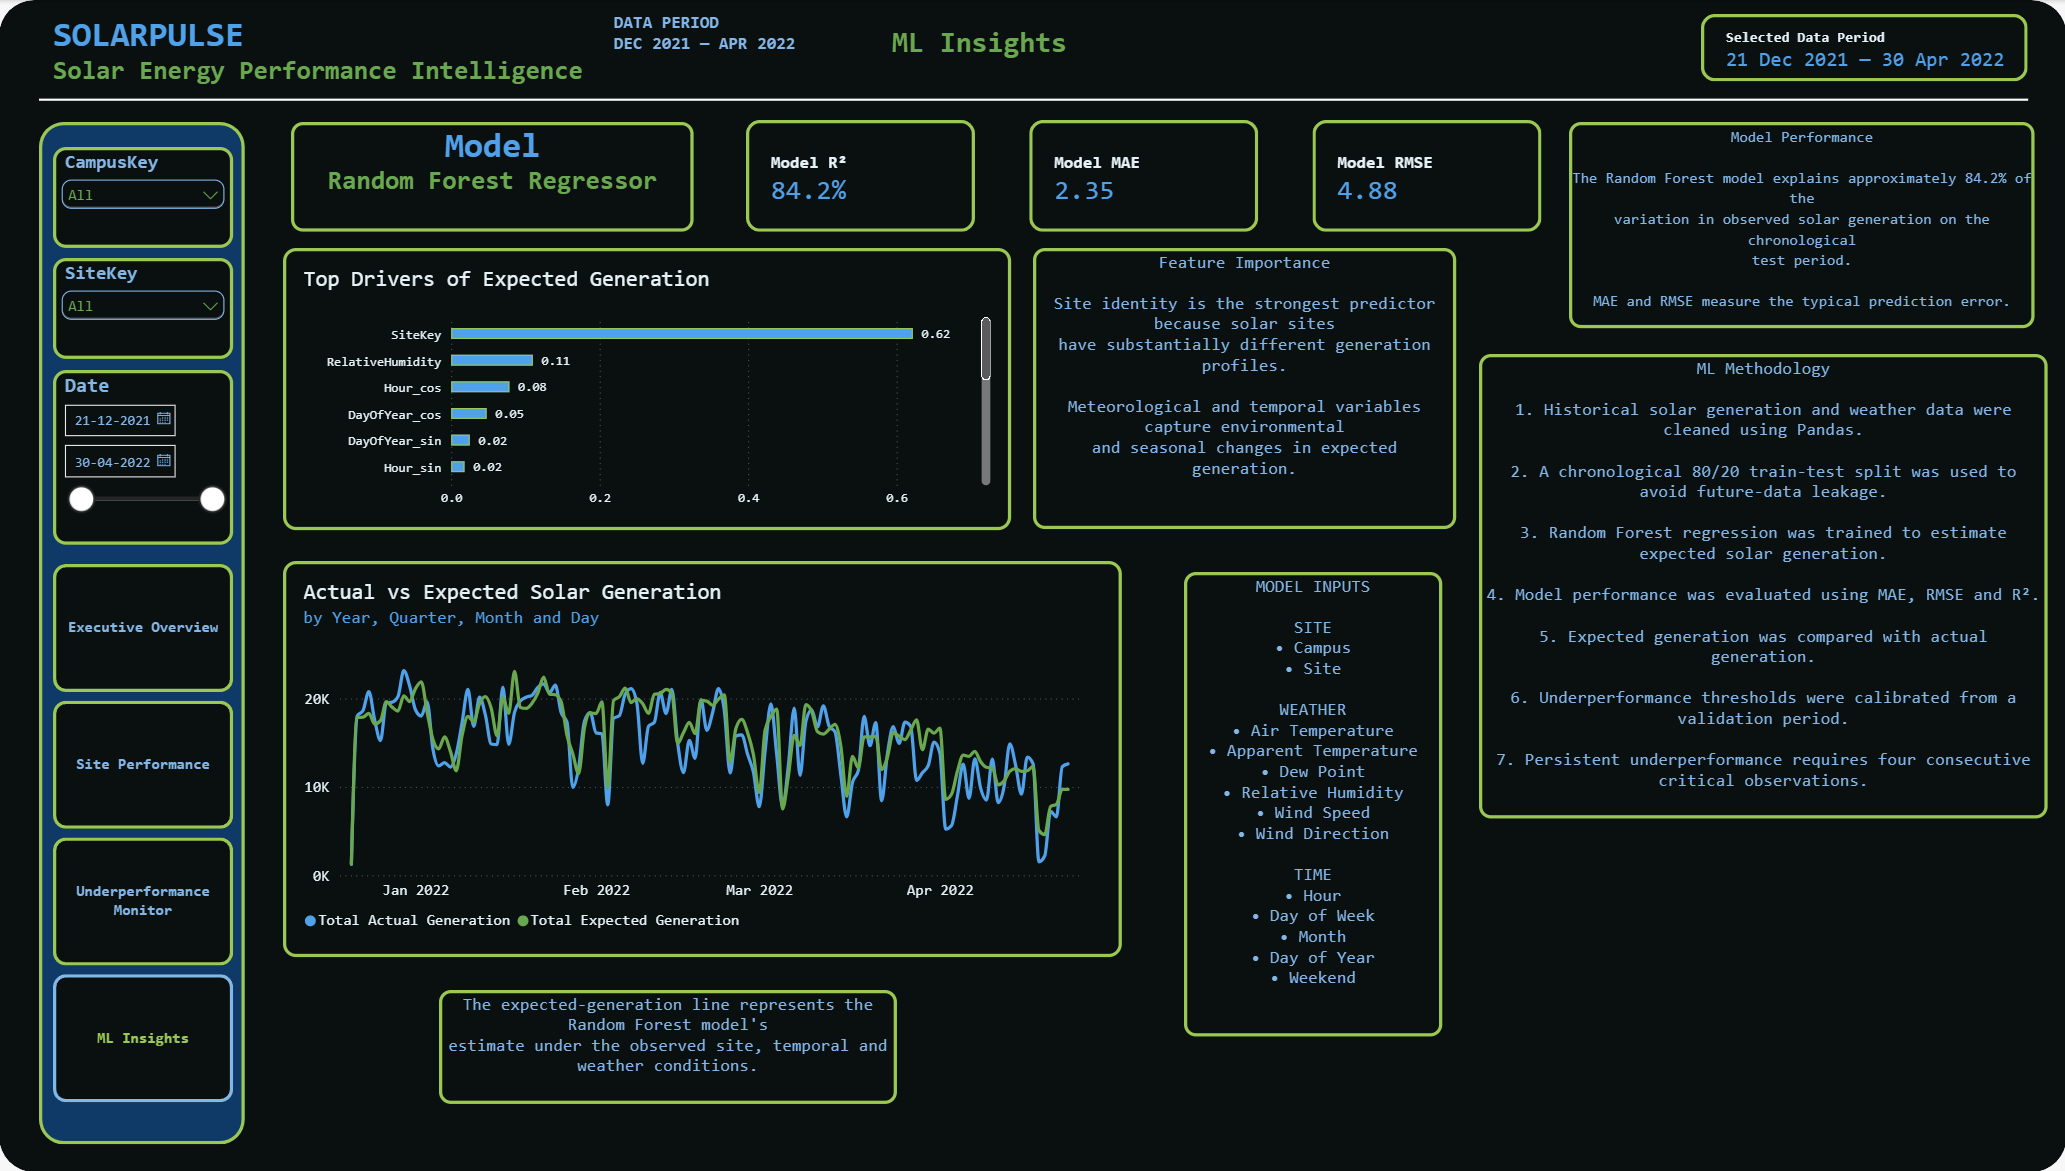

This screenshot's page, from the dashboard's own definition file:
{"tool":"powerbi","page":{"name":"ML Insights","canvas":[1920,1080],"ordinal":3},"visuals":[{"type":"shape","box":[0,0,1905.4,1080.1],"z":0},{"type":"textbox","box":[49.6,13.6,590.1,82.6],"z":1000},{"type":"shape","box":[36.9,0,1833.5,183.7],"z":2000},{"type":"cardVisual","fields":{"Data":["All_Measures.Model R²","All_Measures.Model MAE","All_Measures.Model RMSE"]},"box":[687.9,110.9,735.9,103.4],"z":3000},{"type":"shape","box":[36.9,112.8,189.6,942],"z":4000},{"type":"clusteredBarChart","title":"Top Drivers of Expected Generation","fields":{"Category":["feature_importance.Feature"],"Y":["Sum(feature_importance.Importance)"]},"box":[261.5,228.2,670.8,259.6],"z":5000},{"type":"textbox","box":[268.8,112.8,371.2,101.5],"z":6000},{"type":"textbox","box":[1446.3,112.8,429.5,189.8],"z":7000},{"type":"textbox","box":[953,228.4,390,259.4],"z":8000},{"type":"lineChart","title":"Actual vs Expected Solar Generation","fields":{"Y":["All_Measures.Total Actual Generation","All_Measures.Total Expected Generation"],"Category":["DateTable.Date.Variation.Date Hierarchy.Year"]},"box":[261.3,516.9,773.5,364.6],"z":9000},{"type":"textbox","box":[405.1,912.5,422,105.3],"z":10000},{"type":"textbox","box":[1363.6,326.1,524.4,427.6],"z":11000},{"type":"textbox","box":[1092,527.2,237.8,427.6],"z":12000},{"type":"slicer","title":"Campus Key","fields":{"Values":["solar_sites.CampusKey"]},"box":[49.8,135.3,166.3,93],"z":12001},{"type":"slicer","title":"Campus Key","fields":{"Values":["vw_solar_performance.SiteKey"]},"box":[49.8,237.8,166.3,93],"z":12002},{"type":"slicer","title":"Campus Key","fields":{"Values":["DateTable.Date"]},"box":[49.8,341.1,166.3,160.7],"z":12003},{"type":"textbox","box":[566.7,11.3,227.4,43.2],"z":12004},{"type":"textbox","box":[823.3,23.5,526.3,42.3],"z":12005},{"type":"cardVisual","fields":{"Data":["All_Measures.Selected Data Period"]},"box":[1568.5,13.2,301.7,63],"z":12006},{"type":"pageNavigator","box":[49.8,519.7,166.3,500],"z":12007}]}

Visuals, with their boxes in screenshot pixels (x1, y1, x2, y2), scaled from the page's 1920x1080 canvas onto the 2065x1171 screenshot:
shape: locate(0, 0, 2049, 1170)
textbox: locate(53, 15, 688, 104)
shape: locate(40, 0, 2012, 199)
cardVisual - All_Measures.Model R² x All_Measures.Model MAE: locate(740, 120, 1531, 232)
shape: locate(40, 122, 244, 1144)
"Top Drivers of Expected Generation" clusteredBarChart: locate(281, 247, 1003, 529)
textbox: locate(289, 122, 688, 232)
textbox: locate(1556, 122, 2017, 328)
textbox: locate(1025, 248, 1444, 529)
"Actual vs Expected Solar Generation" lineChart: locate(281, 560, 1113, 956)
textbox: locate(436, 989, 890, 1104)
textbox: locate(1467, 354, 2031, 817)
textbox: locate(1174, 572, 1430, 1035)
"Campus Key" slicer: locate(54, 147, 232, 248)
"Campus Key" slicer: locate(54, 258, 232, 359)
"Campus Key" slicer: locate(54, 370, 232, 544)
textbox: locate(609, 12, 854, 59)
textbox: locate(885, 25, 1452, 71)
cardVisual - All_Measures.Selected Data Period: locate(1687, 14, 2011, 83)
pageNavigator: locate(54, 563, 232, 1106)
